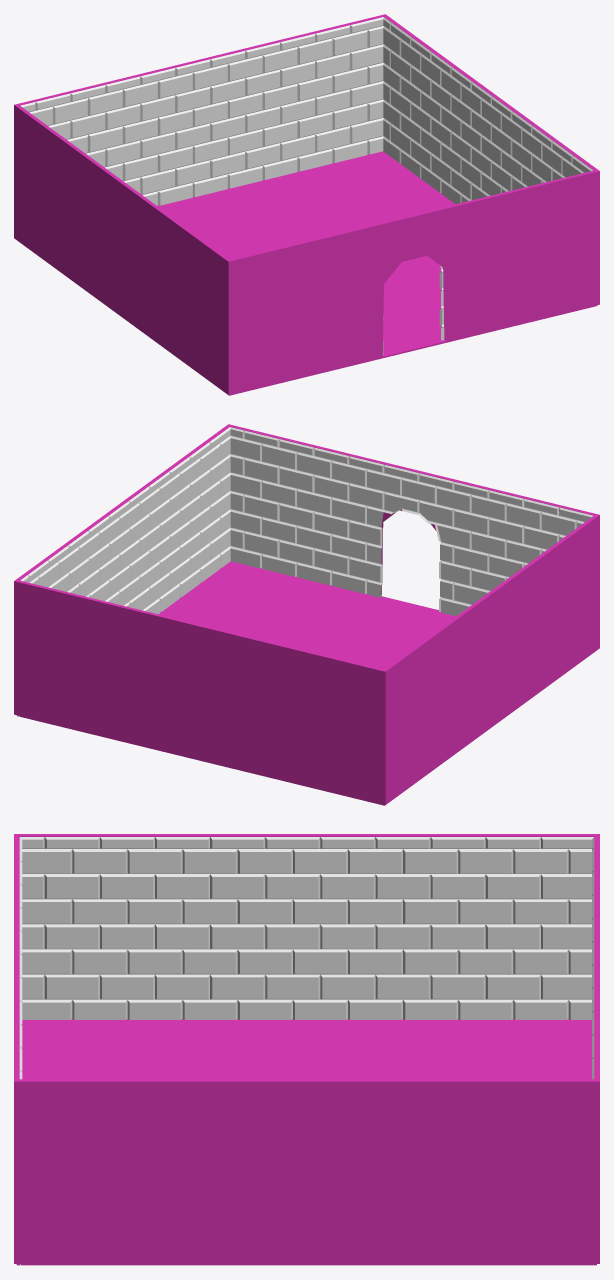
3 views of the same model, one above another, from view 1: azimuth 30°, elevation 25°; view 2: azimuth 150°, elevation 25°; view 3: azimuth 270°, elevation 25° (orthographic). The views are drawn at different scales.
Visible parts, largest first — view 1: Cube.100; view 2: Cube.100; view 3: Cube.100.
Boxes of the visible parts, bbox=[...] form: Cube.100: bbox=[14, 14, 599, 395]; Cube.100: bbox=[14, 424, 599, 805]; Cube.100: bbox=[14, 834, 599, 1265].
Size of the model in its own units: 2020 by 2020 by 703.
